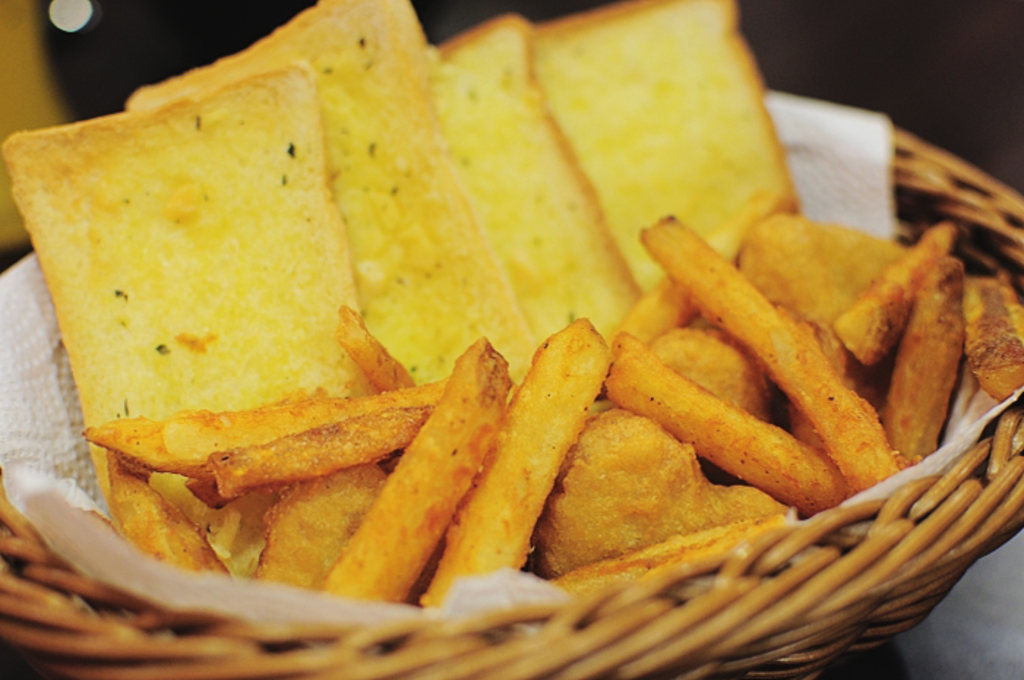French fries: (196, 166, 981, 615)
